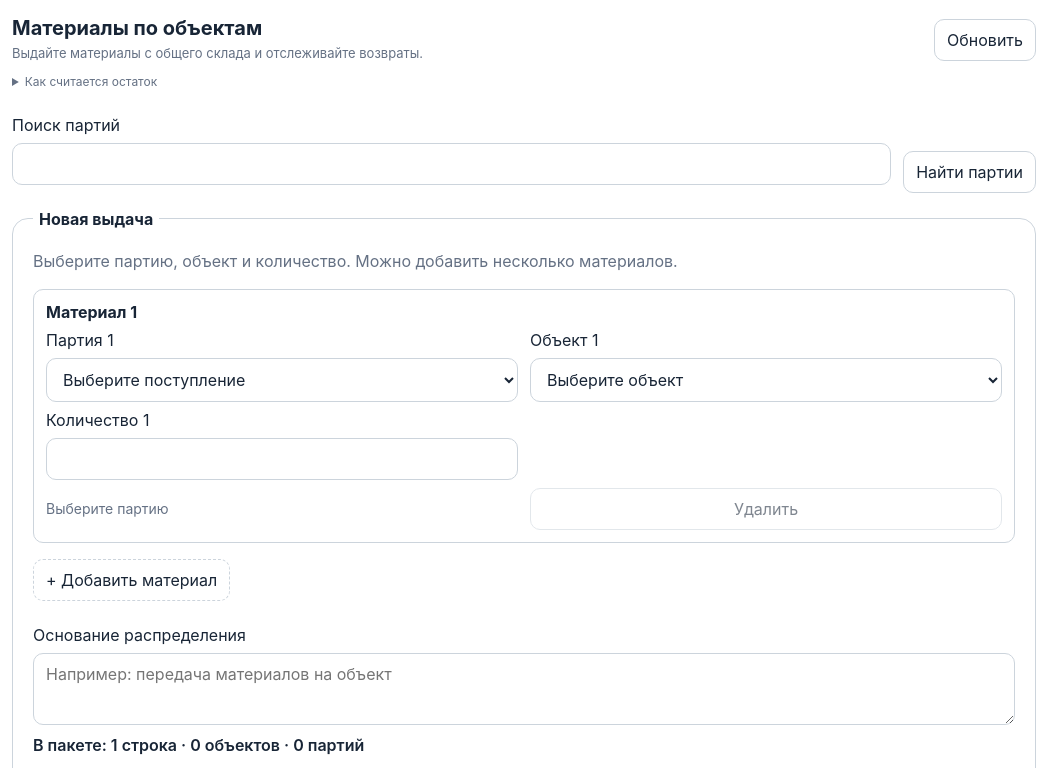
Test: кладовщик can allocate and return
The width and height of the screenshot is (1048, 768).
Select "НК-10 · Кабель · доступно 100 м · строка 1" in the dropdown labelled "Партия 1" at point(282, 380), box [46, 358, 518, 402]
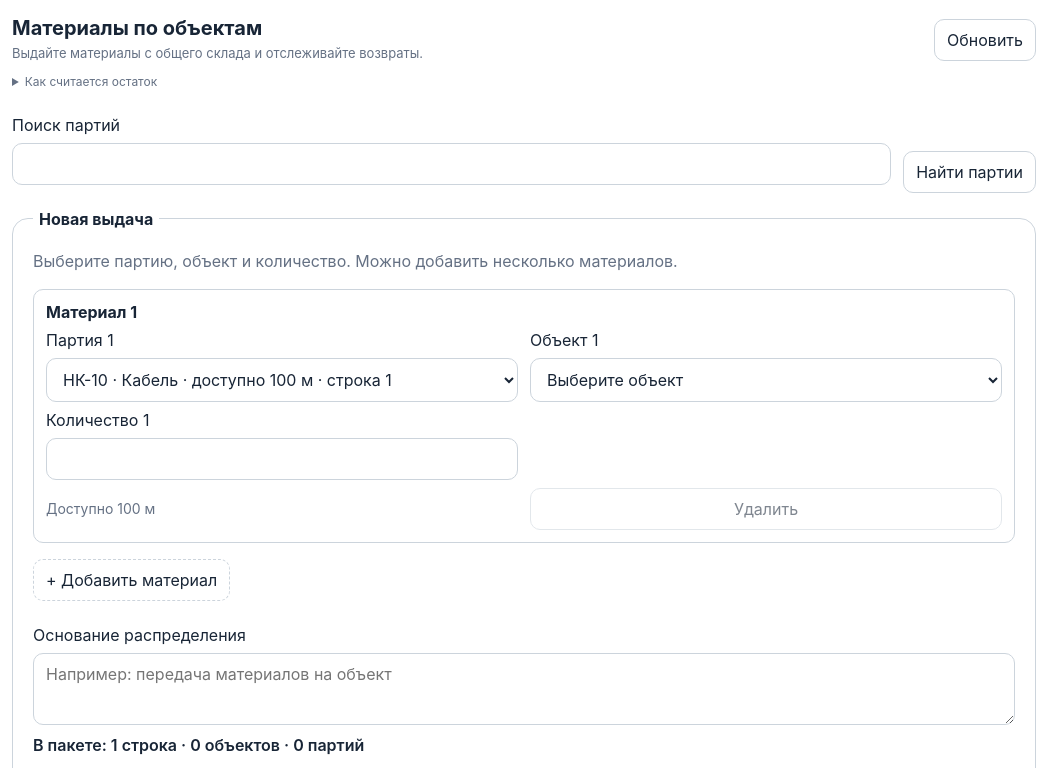
Select "Школа" in the dropdown labelled "Объект 1" at point(766, 380), box [530, 358, 1002, 402]
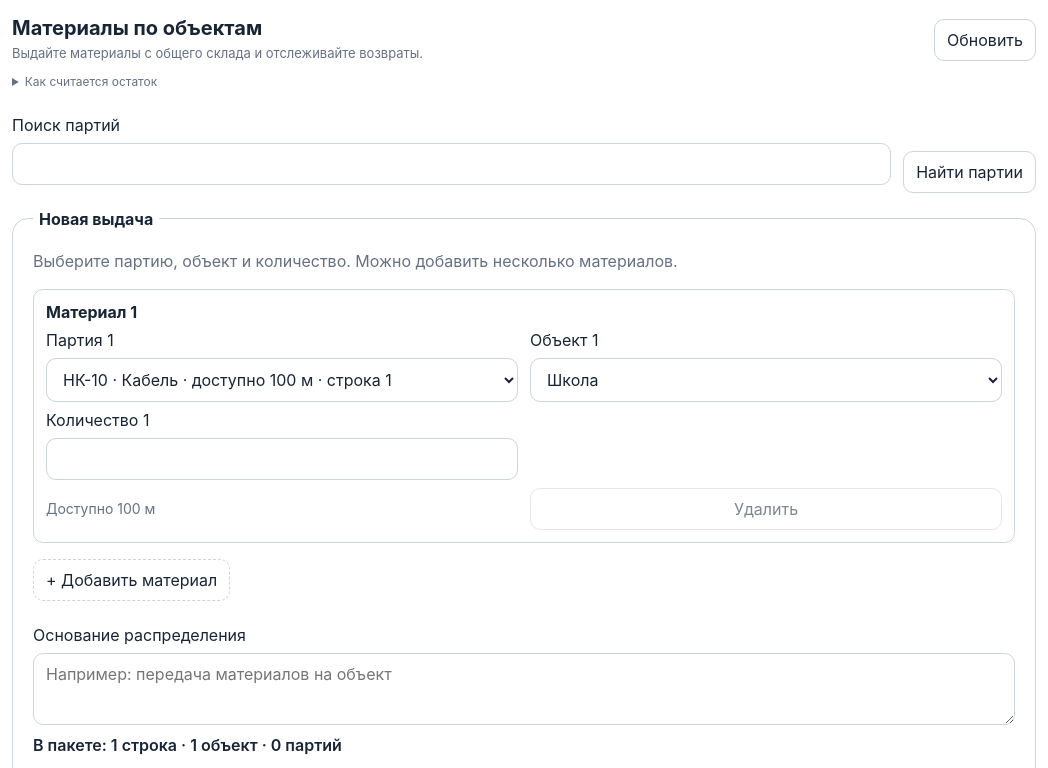
Type "10" into the field labelled "Количество 1" at point(282, 458), box [46, 438, 518, 480]
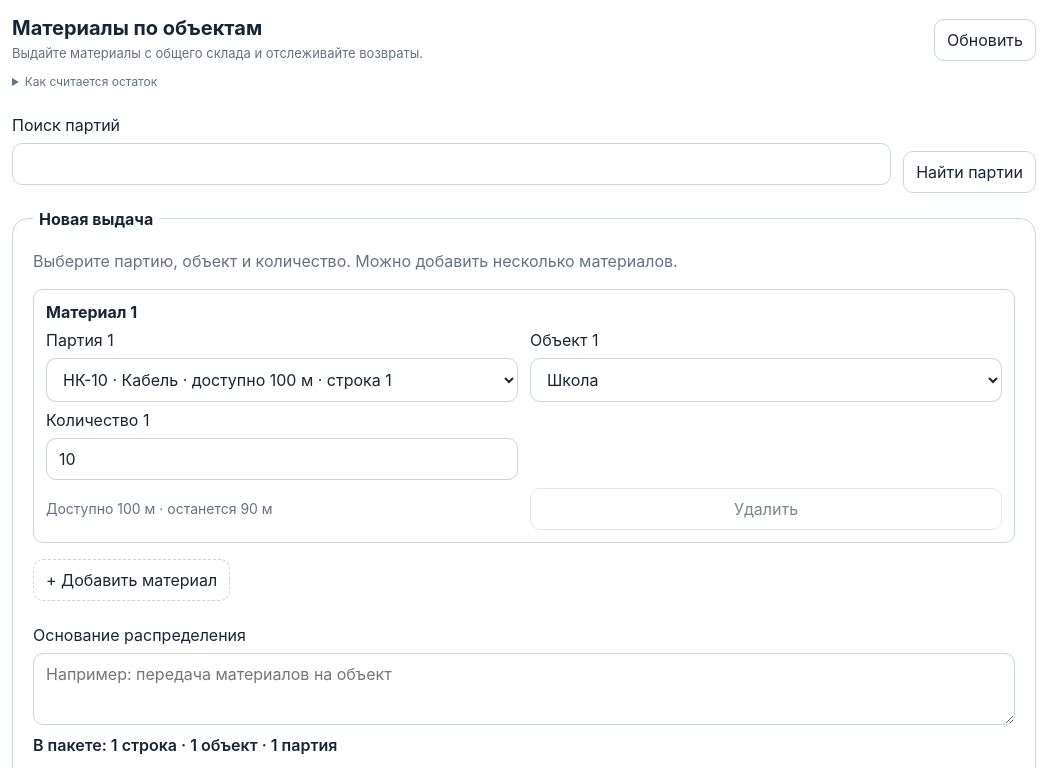
Type "По заявке" into the text box labelled "Основание распределения" at point(524, 688), box [33, 652, 1015, 724]
(page scrolled)
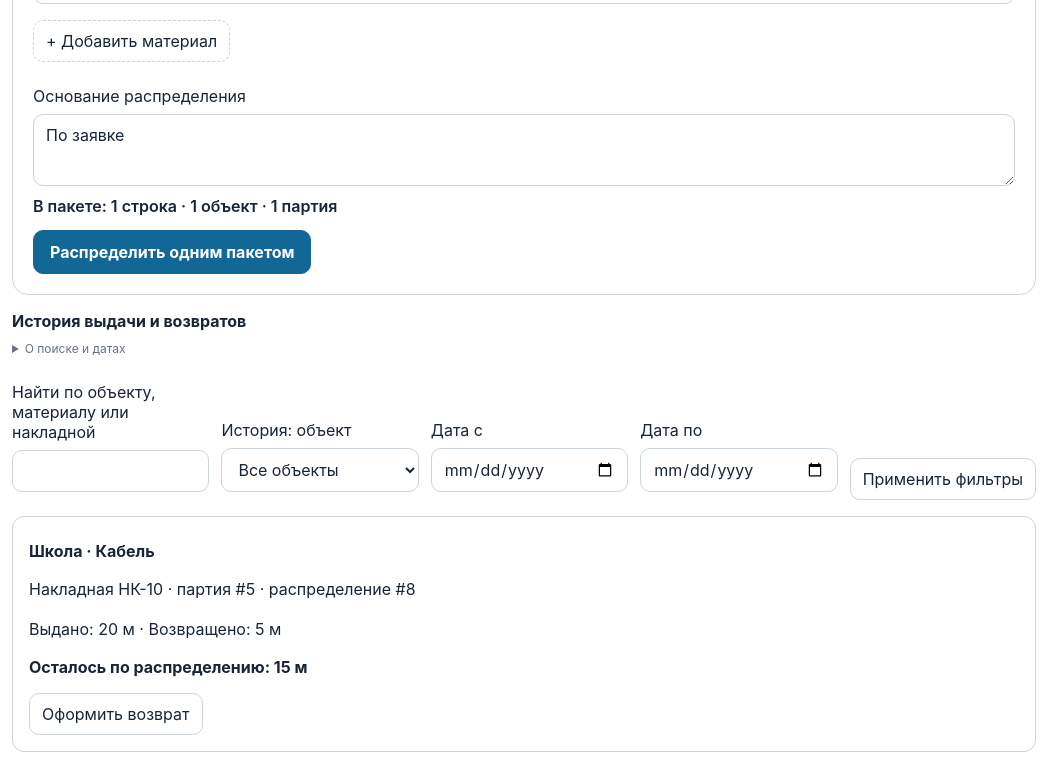
Expected: the button "Оформить возврат" is enabled, [29, 692, 202, 734]
Expected: the button "Распределить одним пакетом" is enabled, [33, 230, 312, 274]
